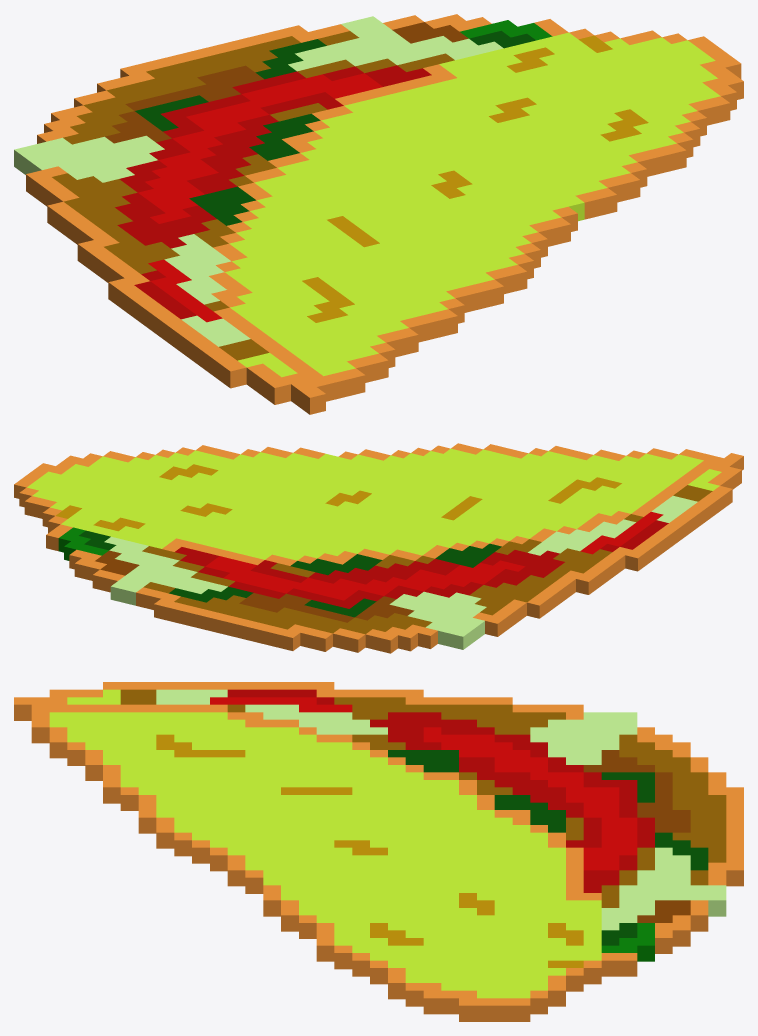
File: tacos.obj
The picture shows the model from 3 angles, top to bottom: view 1: azimuth 30°, elevation 25°; view 2: azimuth 150°, elevation 25°; view 3: azimuth 270°, elevation 25°; orthographic projection. The views are drawn at different scales.
Visible parts, largest first — view 1: tacos; view 2: tacos; view 3: tacos.
Boxes of the visible parts, left/top/right/bottom form: tacos: left=14, top=14, right=743, bottom=414; tacos: left=14, top=443, right=743, bottom=653; tacos: left=14, top=682, right=743, bottom=1021.
Size of the model in its own units: 43 by 1 by 41.
Materials: 1 (1 with a texture image).
